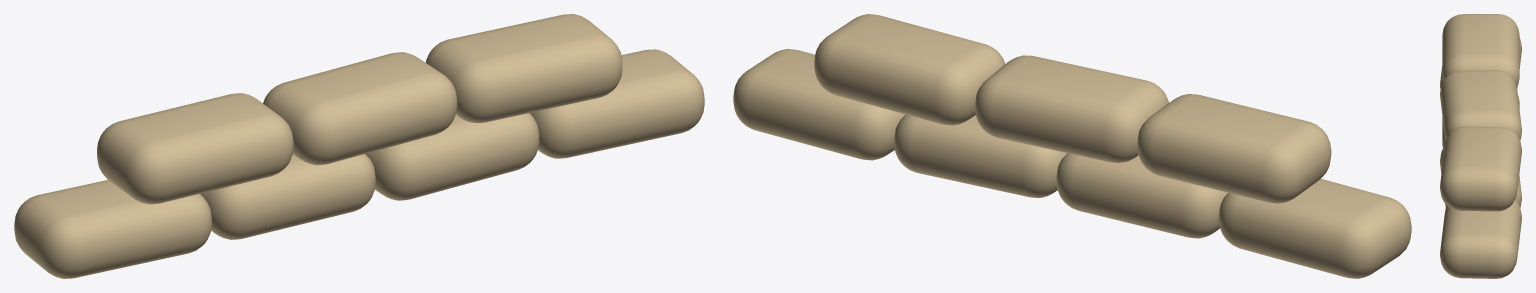
Rendered from sacos_de_arena.fbx.
3 views of the same model, side by side, from view 1: azimuth 30°, elevation 25°; view 2: azimuth 150°, elevation 25°; view 3: azimuth 270°, elevation 25° (orthographic). The views are drawn at different scales.
Parts seen in each view (by area): view 1: sand_05, sand_07, sand_06, sand, sand_04, sand_03, sand_02; view 2: sand_05, sand_06, sand_07, sand, sand_04, sand_02, sand_03; view 3: sand_07, sand_04, sand_06, sand_05, sand_03, sand, sand_02.
Boxes of the visible parts, x1,y1,x2,y2 form: sand_05: (97,93,293,204); sand_07: (425,14,622,122); sand_06: (263,52,457,165); sand: (14,180,211,278); sand_04: (530,49,704,158); sand_03: (365,113,539,200); sand_02: (200,154,375,239); sand_05: (1137,94,1331,203); sand_06: (975,55,1168,162); sand_07: (814,14,1005,125); sand: (1219,179,1411,278); sand_04: (733,49,905,160); sand_02: (1056,153,1227,238); sand_03: (894,114,1067,197); sand_07: (1440,126,1521,211); sand_04: (1440,200,1521,278); sand_06: (1440,70,1521,140); sand_05: (1442,14,1519,87); sand_03: (1440,146,1521,207); sand: (1440,38,1521,89); sand_02: (1442,95,1519,147).
Size of the model in its own units: 2.49 by 0.42 by 0.3805.
